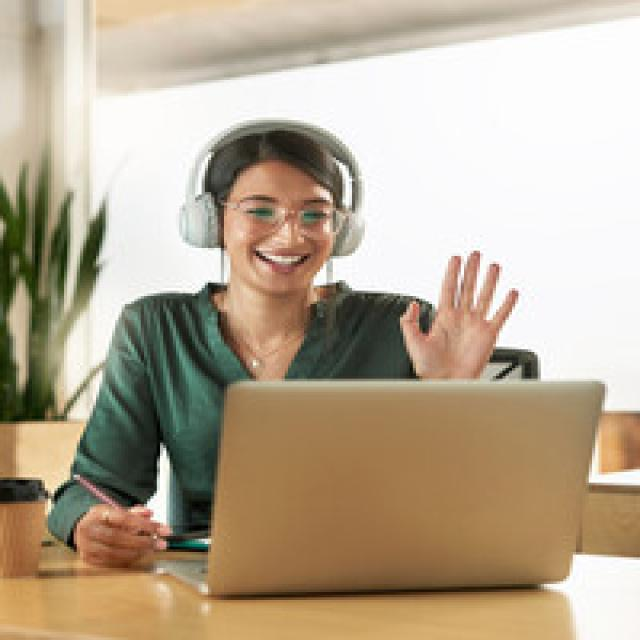Headphone: (177, 119, 366, 261)
